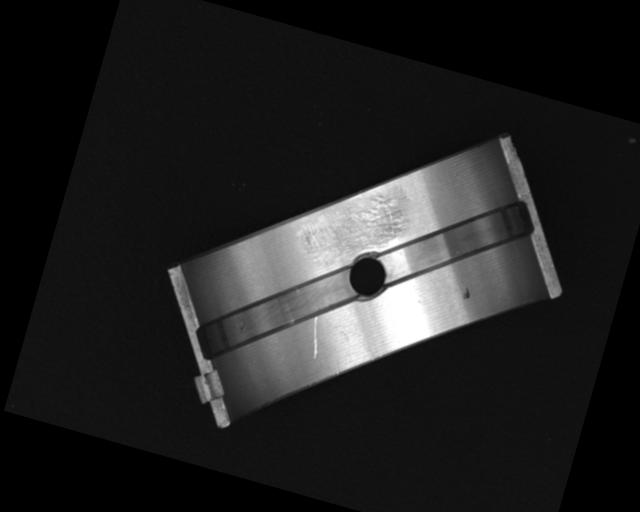bruise: (460, 285, 473, 301)
gap: (194, 240, 365, 386), (377, 172, 539, 313)
hole: (342, 250, 393, 303)
nick: (304, 315, 326, 359)
scratch: (292, 175, 411, 285)
